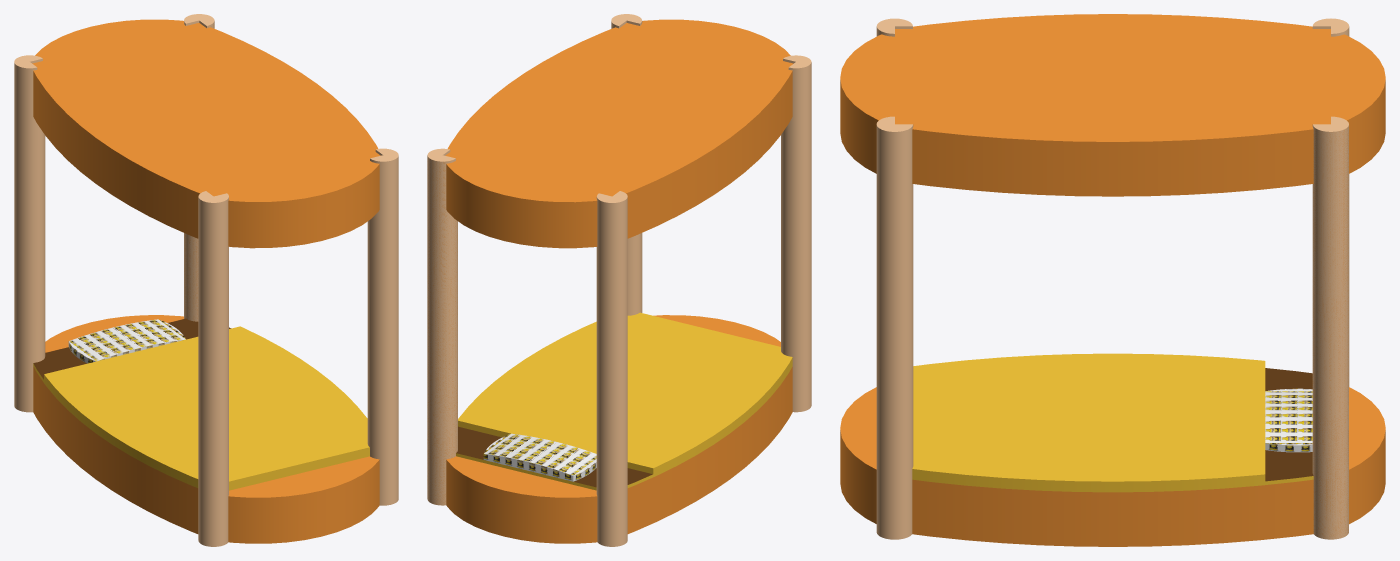
The picture shows the model from 3 angles, left to right: view 1: azimuth 30°, elevation 25°; view 2: azimuth 150°, elevation 25°; view 3: azimuth 270°, elevation 25°; orthographic projection. The views are drawn at different scales.
Parts seen in each view (by area): view 1: SketchUp (×9); view 2: SketchUp (×10); view 3: SketchUp (×9).
Boxes of the visible parts, box(x1,y1,x2,y2) form: SketchUp (×9): box(14, 19, 398, 546); SketchUp (×10): box(427, 14, 811, 546); SketchUp (×9): box(840, 14, 1385, 546).
Bounding box in the file's own units: 446 × 804 × 663.
